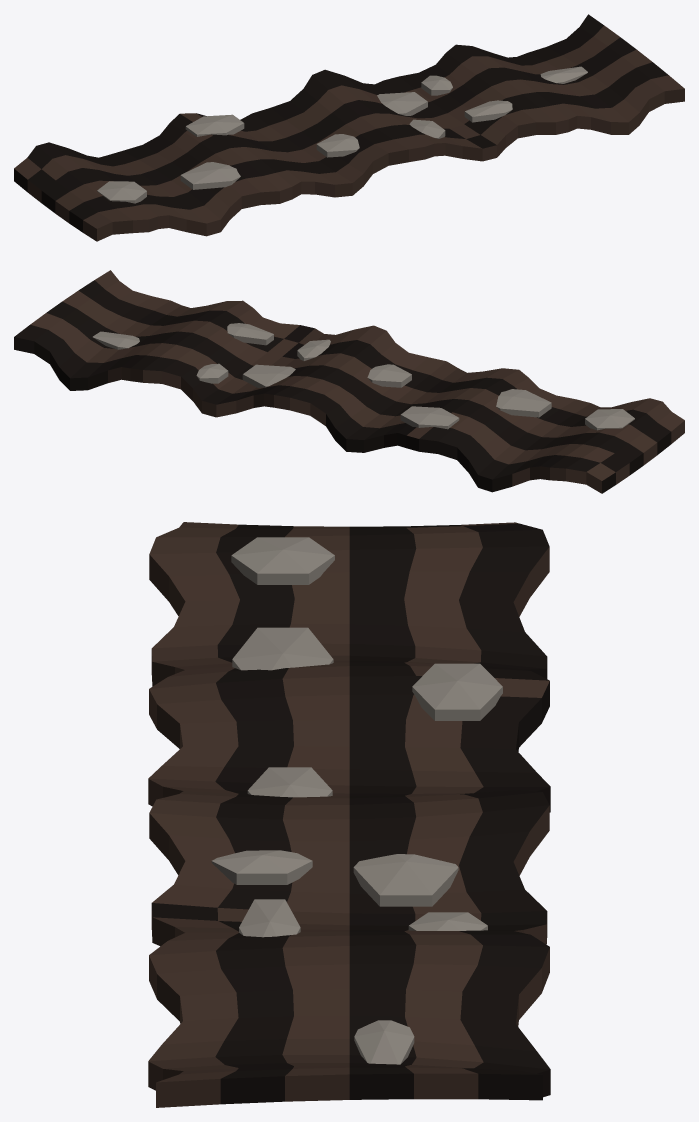
The model's file is bacon_burnt.glb.
The picture shows the model from 3 angles, top to bottom: view 1: azimuth 30°, elevation 25°; view 2: azimuth 150°, elevation 25°; view 3: azimuth 270°, elevation 25°; orthographic projection. The views are drawn at different scales.
Visible parts, largest first — view 1: BaconBurnt; view 2: BaconBurnt; view 3: BaconBurnt.
Part boxes in pixels (x1,y1,x2,y2): BaconBurnt: (14, 14, 684, 241); BaconBurnt: (14, 270, 684, 493); BaconBurnt: (148, 522, 550, 1107).
Size of the model in its own units: 4 by 0.3 by 1.2.
